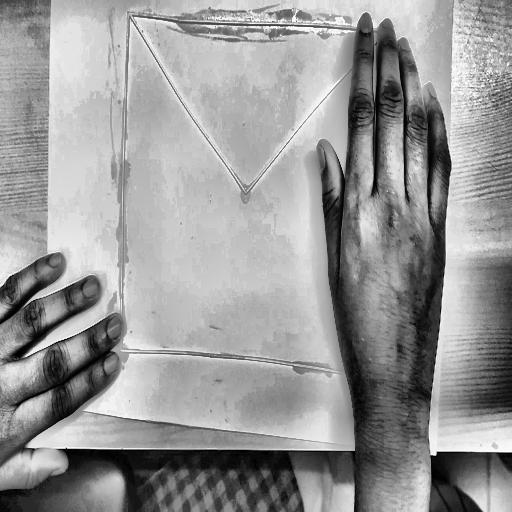bottom_left: (43, 387, 52, 402)
bottom_right: (429, 443, 443, 466)
envelop: (112, 6, 398, 387)
